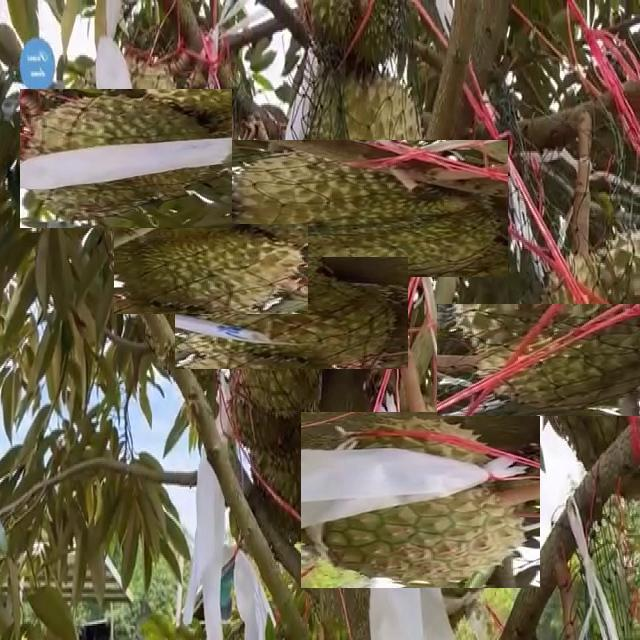durian: (259, 103, 472, 314), (317, 395, 524, 604), (483, 258, 640, 461), (38, 71, 215, 246), (205, 227, 379, 399), (139, 198, 282, 340)
